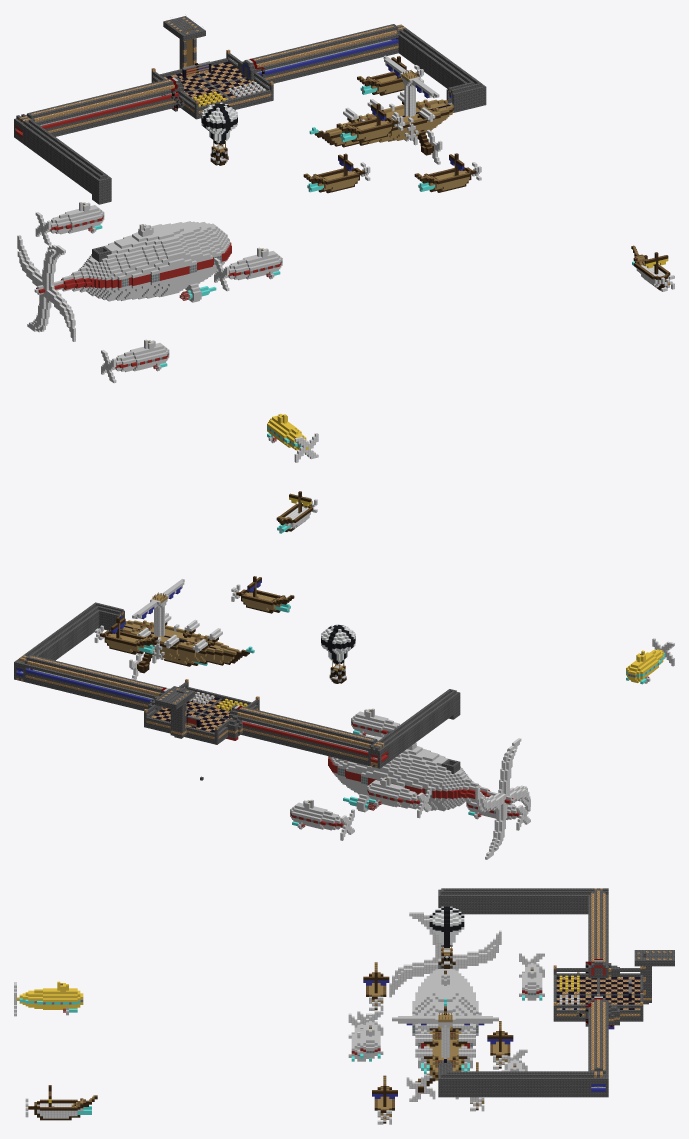
The model's file is minecraft.obj.
3 renders of one model, top to bottom at view 1: azimuth 30°, elevation 25°; view 2: azimuth 150°, elevation 25°; view 3: azimuth 270°, elevation 25°, orthographic. The views are drawn at different scales.
Bounding box in the file's own units: 179 × 78 × 229.
